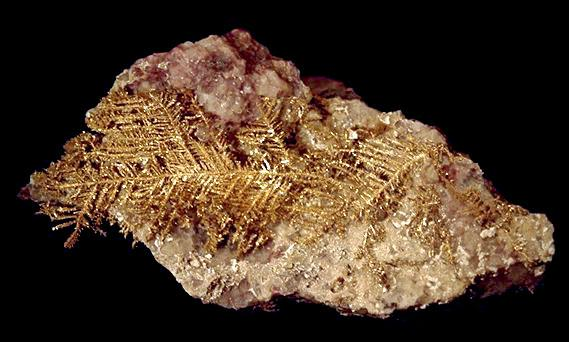gold: (24, 78, 470, 256), (402, 177, 519, 276)
